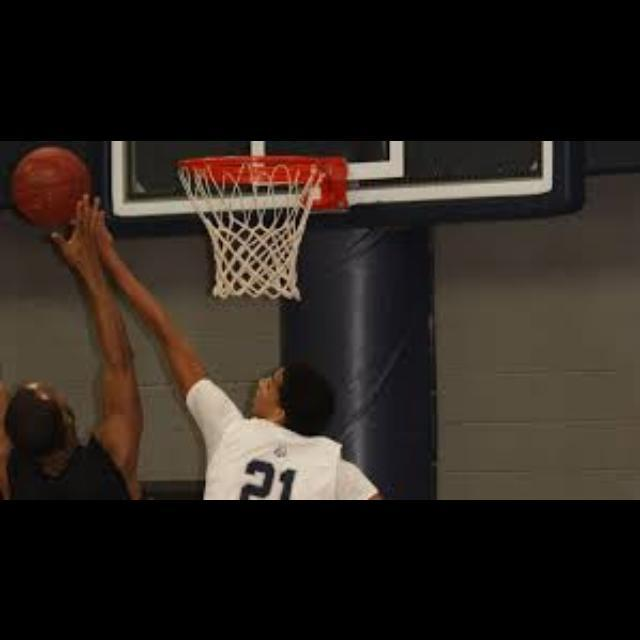basketball: (11, 146, 93, 227)
rim: (178, 156, 320, 300)
